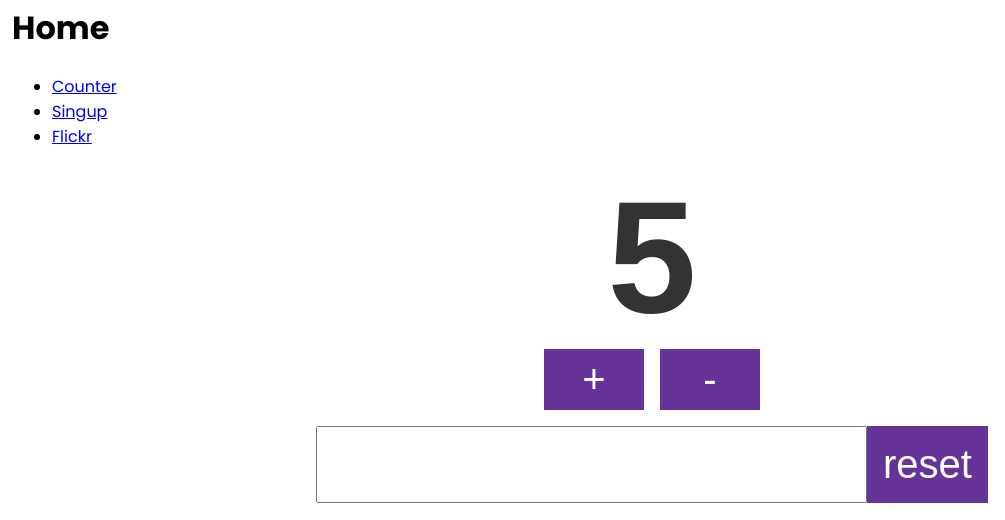
Test case: Counter › decrements the count
What coordinates should you click on to do the following:
click the button with test id "decrement-button"
I would click on:
 (710, 380)
Its box is x1=660 y1=349 x2=760 y2=410.
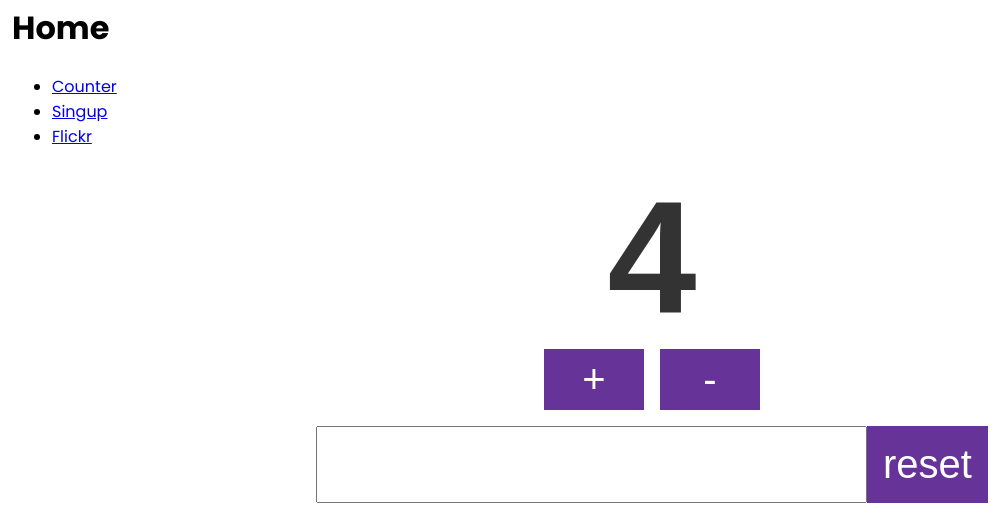
Result: the text with test id "count" reads "4" at x1=608 y1=167 x2=697 y2=346
